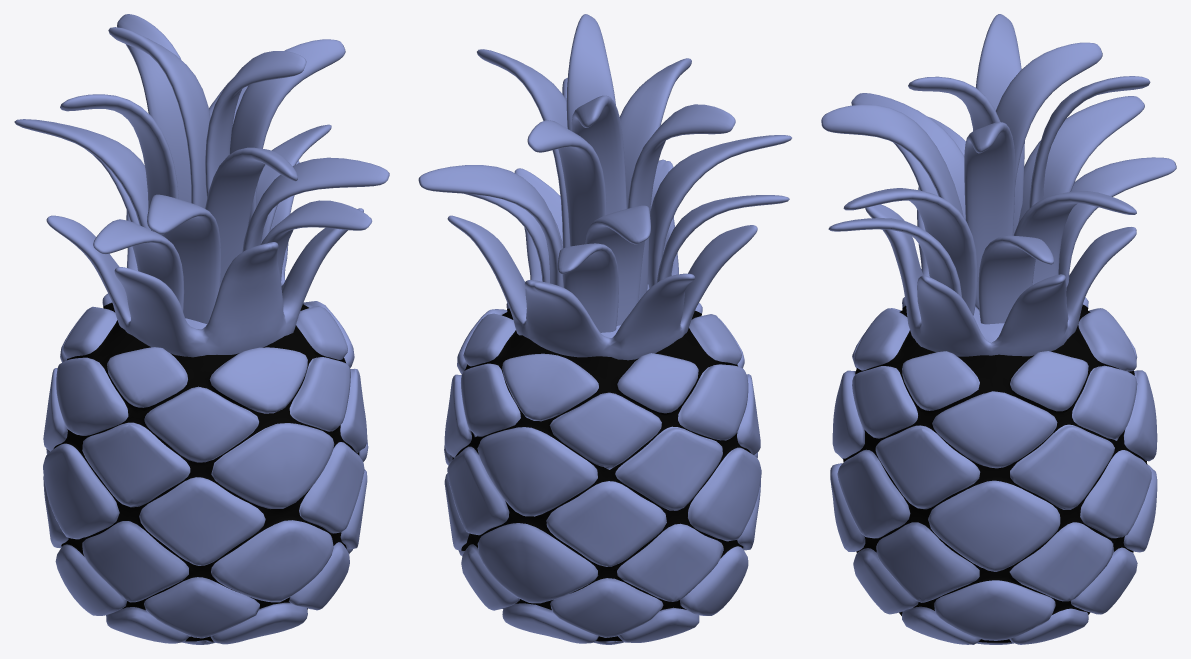
The model's file is pineapple.fbx.
3 views of the same model, side by side, from view 1: azimuth 30°, elevation 25°; view 2: azimuth 150°, elevation 25°; view 3: azimuth 270°, elevation 25° (orthographic). The views are drawn at different scales.
Parts seen in each view (by area): view 1: pasted__pCylinder2, pasted__PM3D_Cube3D2, pasted__PM3D_Ring3D1; view 2: pasted__pCylinder2, pasted__PM3D_Cube3D2, pasted__PM3D_Ring3D1; view 3: pasted__pCylinder2, pasted__PM3D_Cube3D2, pasted__PM3D_Ring3D1.
Part boxes in pixels (x1,y1,x2,y2): pasted__pCylinder2: (43, 293, 368, 644); pasted__PM3D_Cube3D2: (14, 14, 389, 324); pasted__PM3D_Ring3D1: (46, 160, 363, 357); pasted__pCylinder2: (444, 284, 761, 644); pasted__PM3D_Cube3D2: (418, 14, 791, 332); pasted__PM3D_Ring3D1: (447, 159, 757, 360); pasted__pCylinder2: (830, 297, 1157, 644); pasted__PM3D_Cube3D2: (821, 14, 1176, 324); pasted__PM3D_Ring3D1: (865, 187, 1136, 356).
Bounding box in the file's own units: 4.47 × 8.05 × 4.63.
